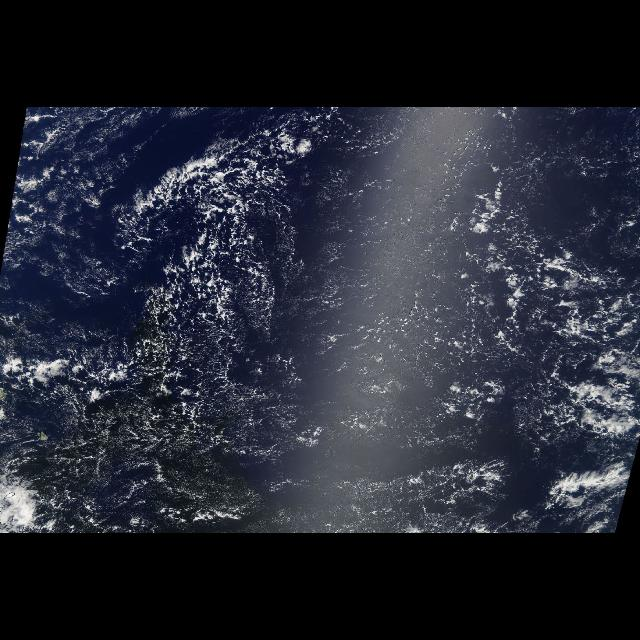Fish: (81, 125, 335, 533)
Gravel: (59, 130, 284, 434), (420, 188, 640, 444)
Sugar: (328, 123, 508, 393)
